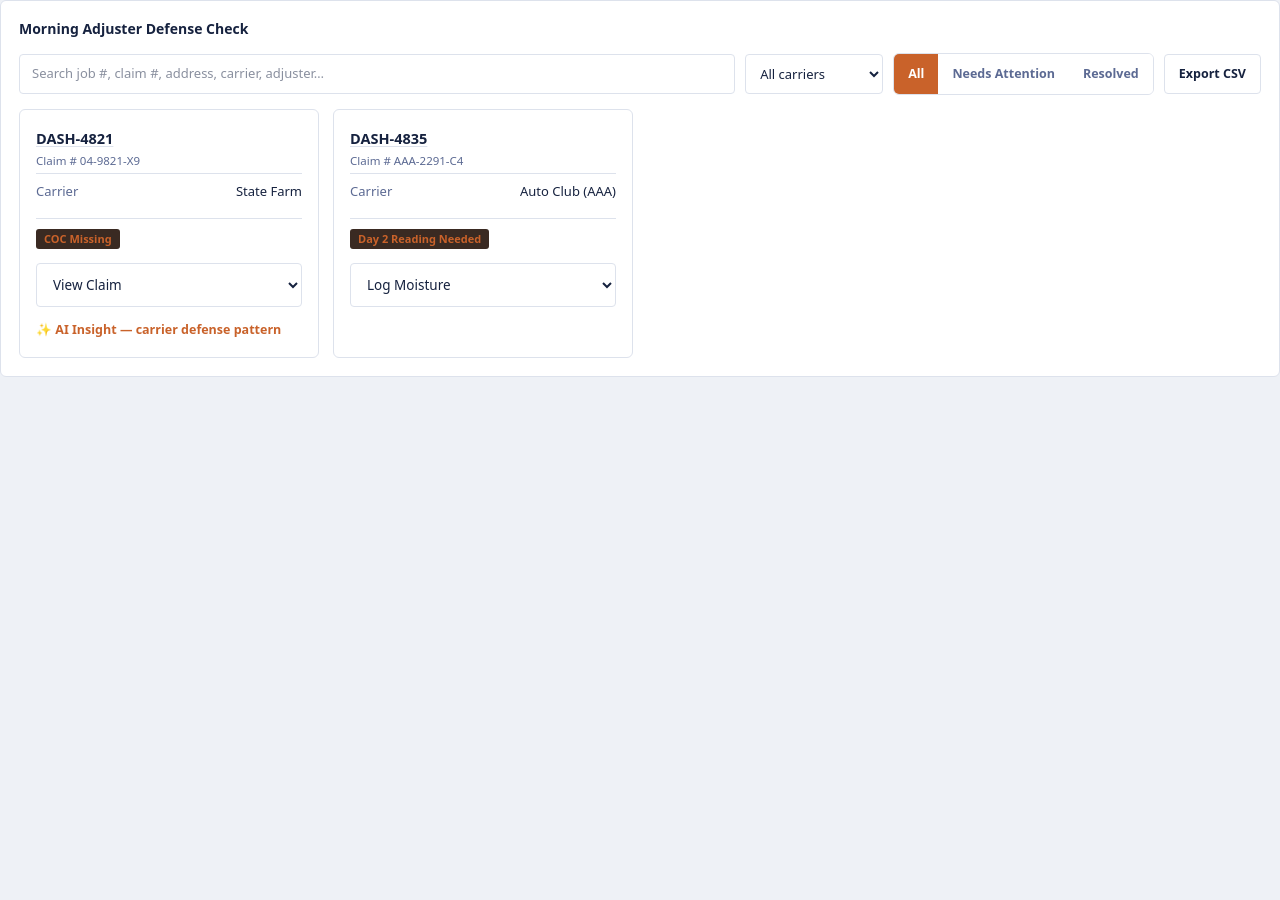
AdjusterDefenseView › opens the note modal on insert request, copies the note to the clipboard, and marks it committed on save
The image size is (1280, 900).
Click the button "✨ AI Insight — carrier defense pattern" at (159, 325), box [36,309,281,341]
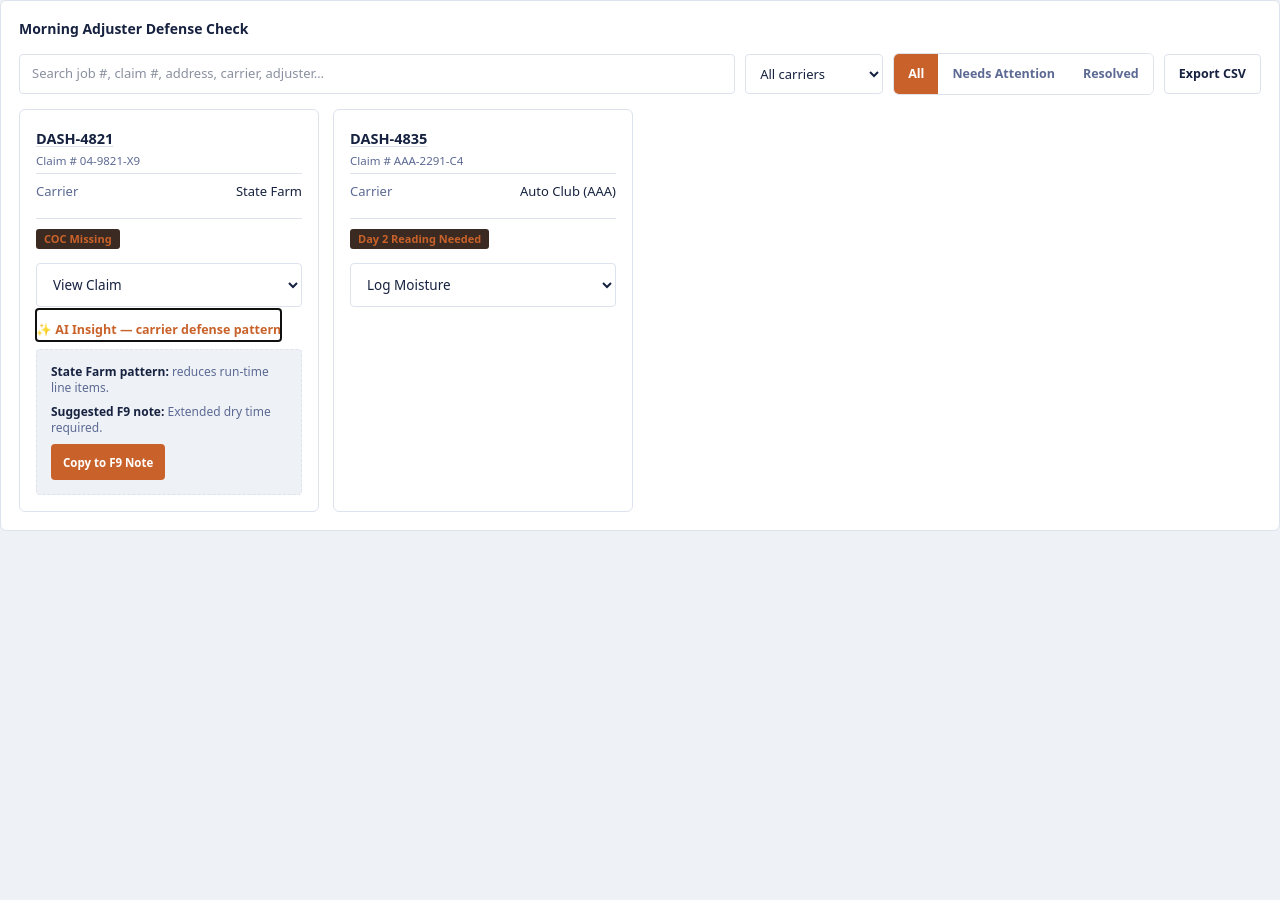
Click the button "Copy to F9 Note" at (108, 462), box [51,444,165,480]
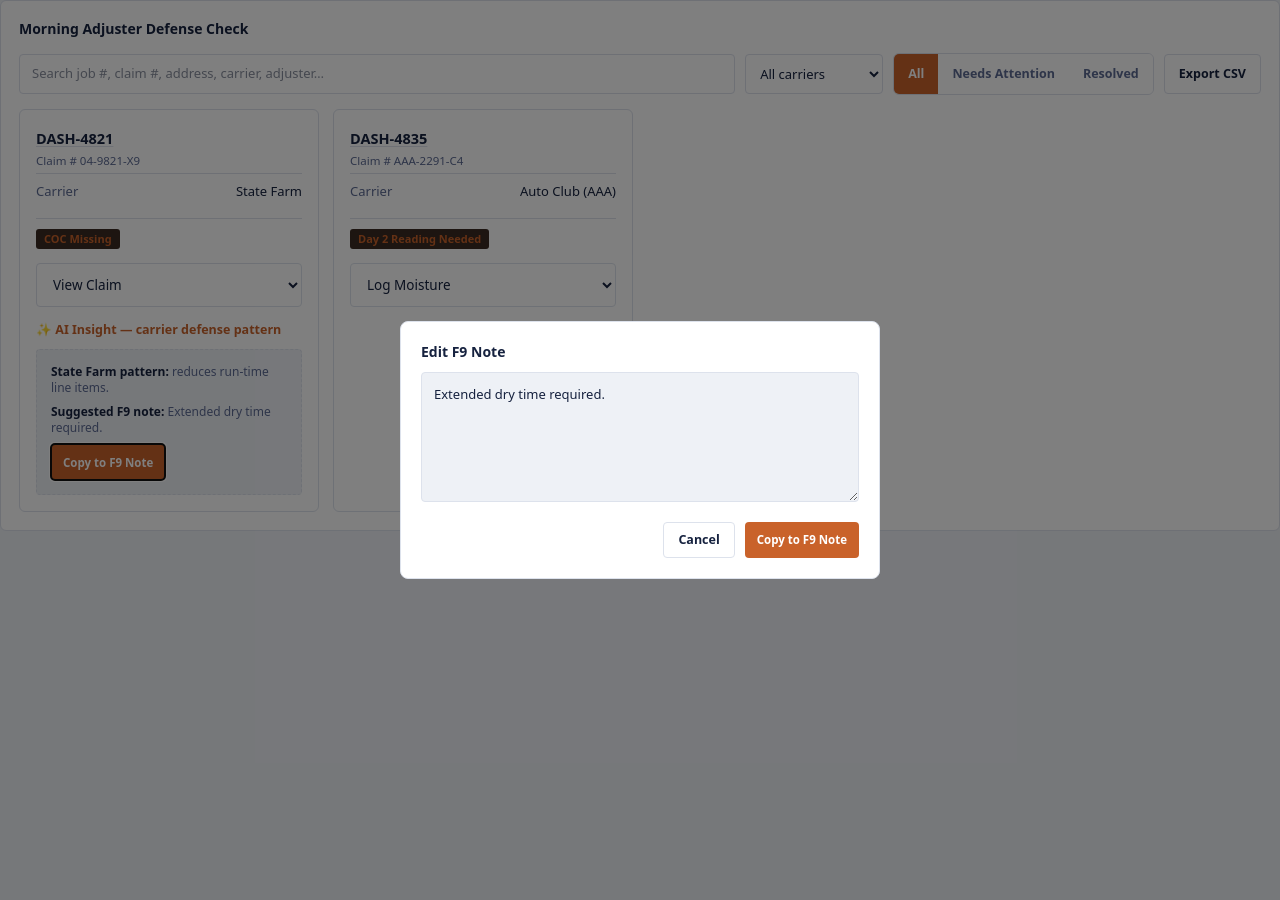
Click the button "Copy to F9 Note" at (802, 540), box [745,522,859,558]
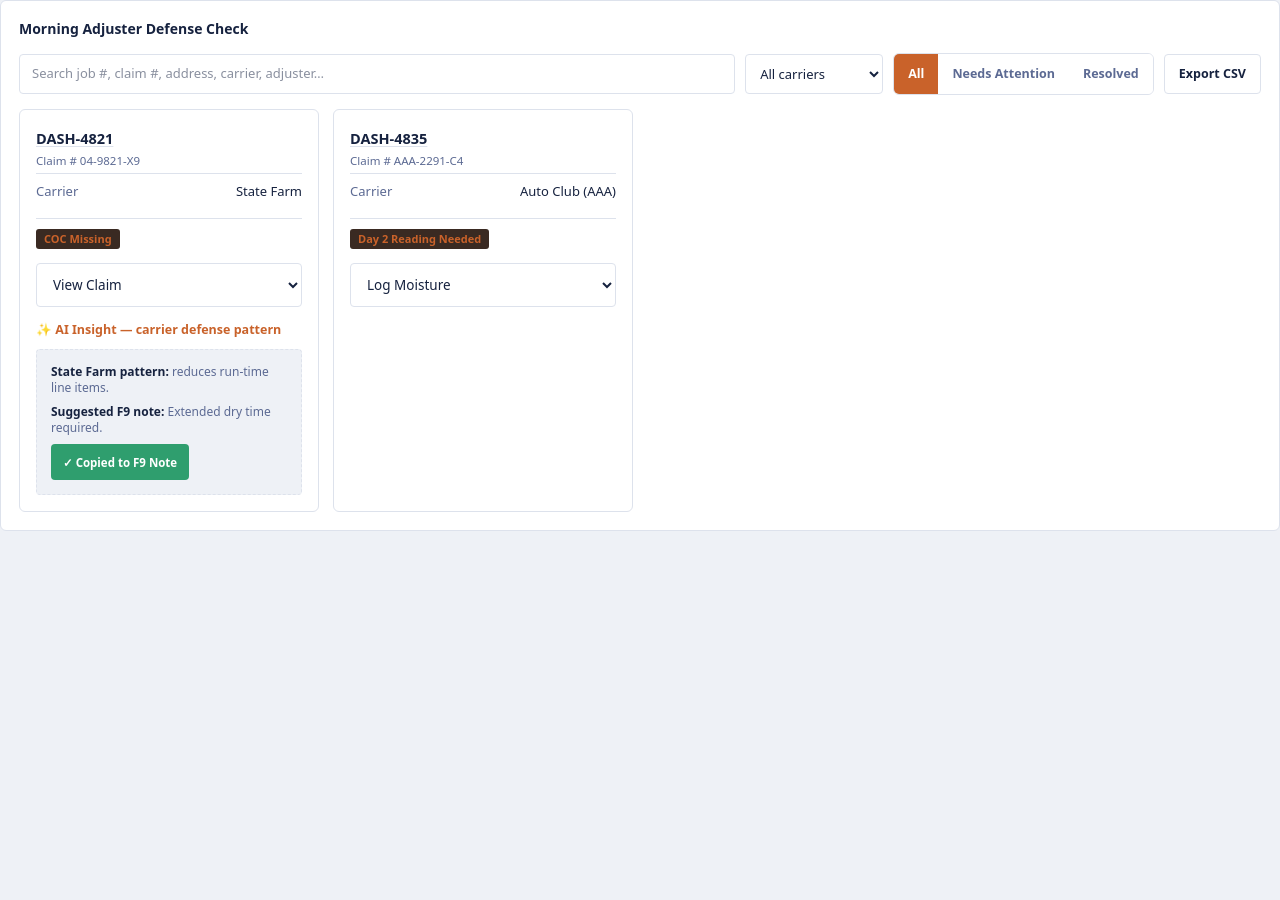
Now the button "✓ Copied to F9 Note" is disabled, box [51,444,189,480]
